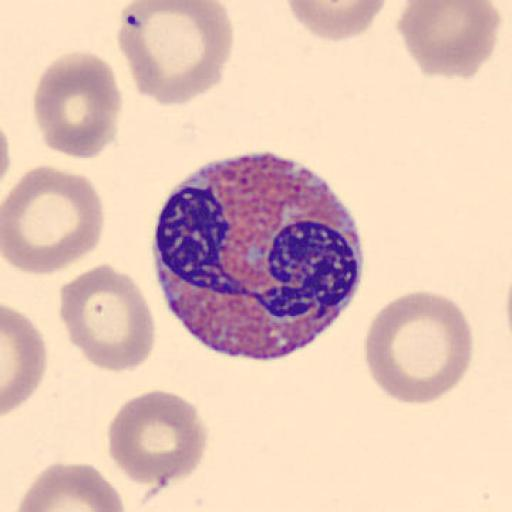RBC: (363, 289, 475, 406), (115, 1, 235, 108), (2, 163, 106, 276), (58, 263, 156, 373), (106, 388, 210, 488), (32, 49, 123, 160), (396, 0, 501, 80), (14, 461, 127, 512), (2, 303, 48, 416), (284, 0, 389, 42), (0, 118, 13, 200)
WBC: (150, 155, 366, 361)
